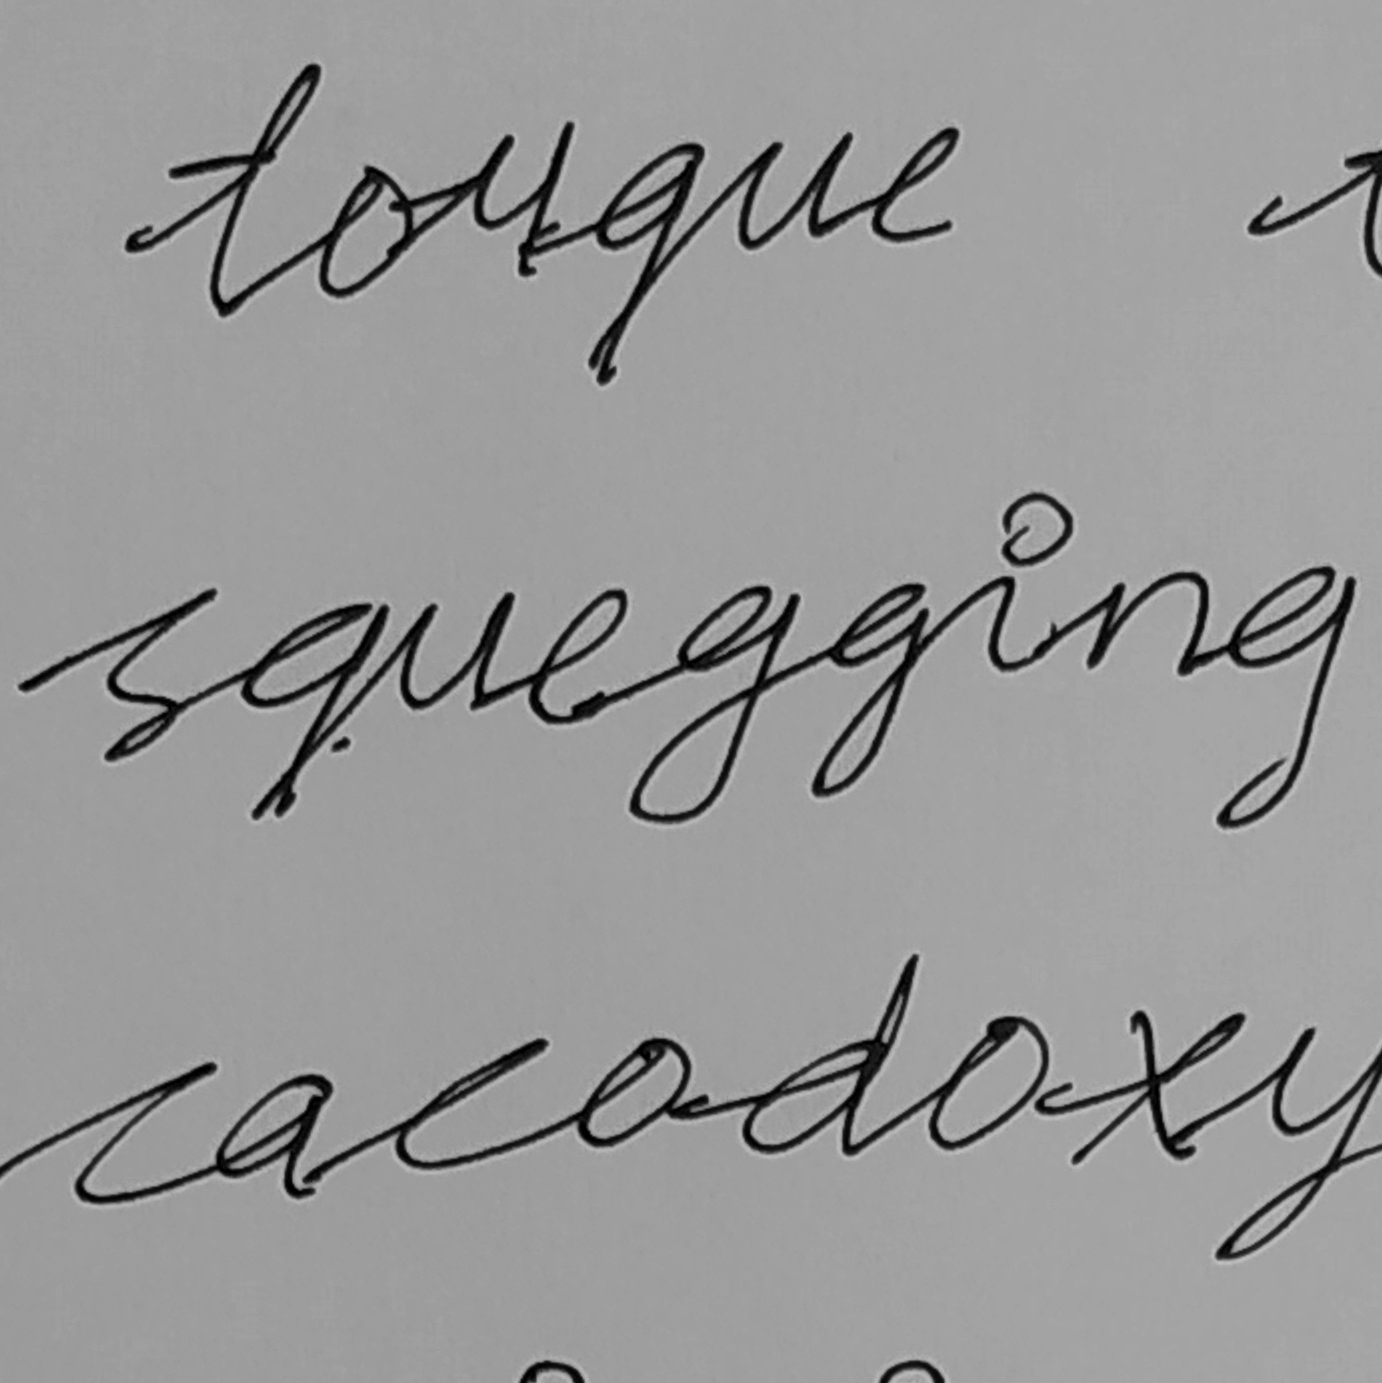e: (524, 585, 630, 728)
g: (621, 580, 804, 830), (1209, 558, 1360, 834), (806, 574, 934, 801)
i: (971, 487, 1076, 677)
n: (1078, 566, 1214, 679)
q: (235, 597, 392, 822)
s: (97, 585, 221, 766)
u: (394, 587, 518, 714)
